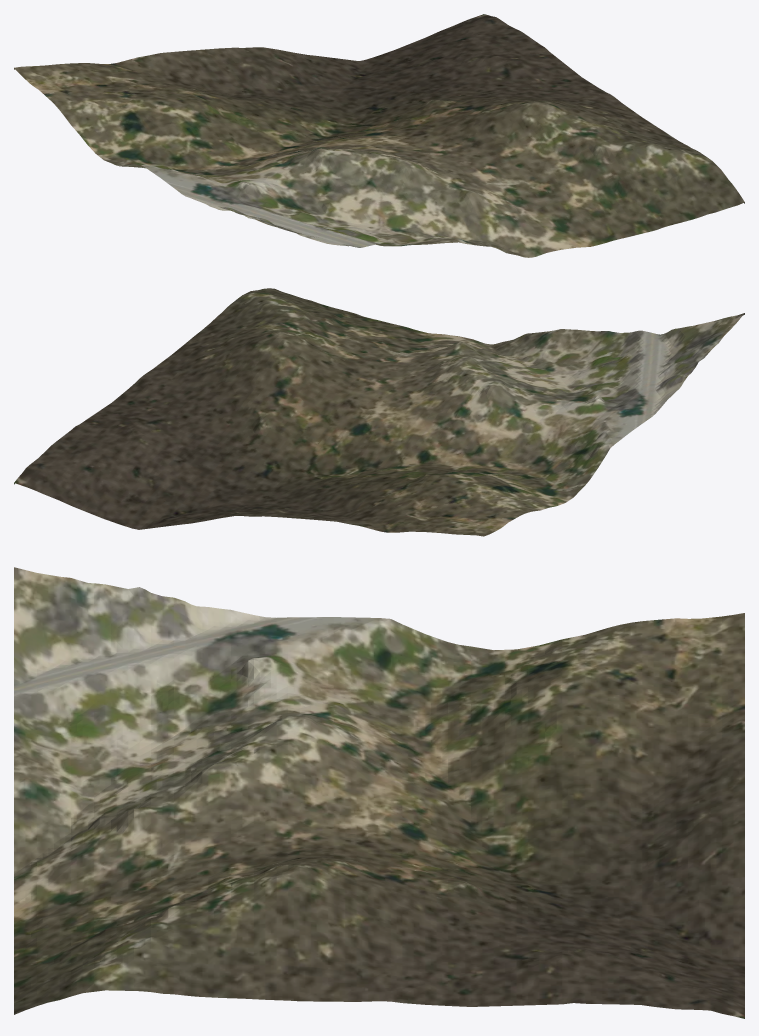
3 renders of one model, top to bottom at view 1: azimuth 30°, elevation 25°; view 2: azimuth 150°, elevation 25°; view 3: azimuth 270°, elevation 25°, orthographic. The views are drawn at different scales.
Bounding box in the file's own units: 250 × 57.14 × 241.
Materials: 1 (1 with a texture image).
